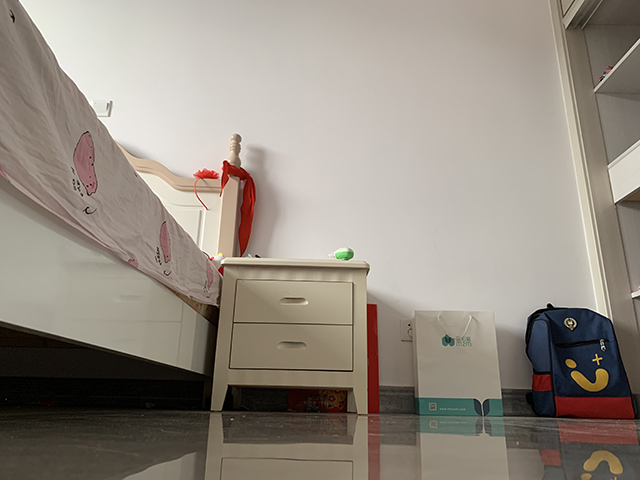bed: (1, 1, 243, 412)
cabinet: (211, 253, 372, 417)
